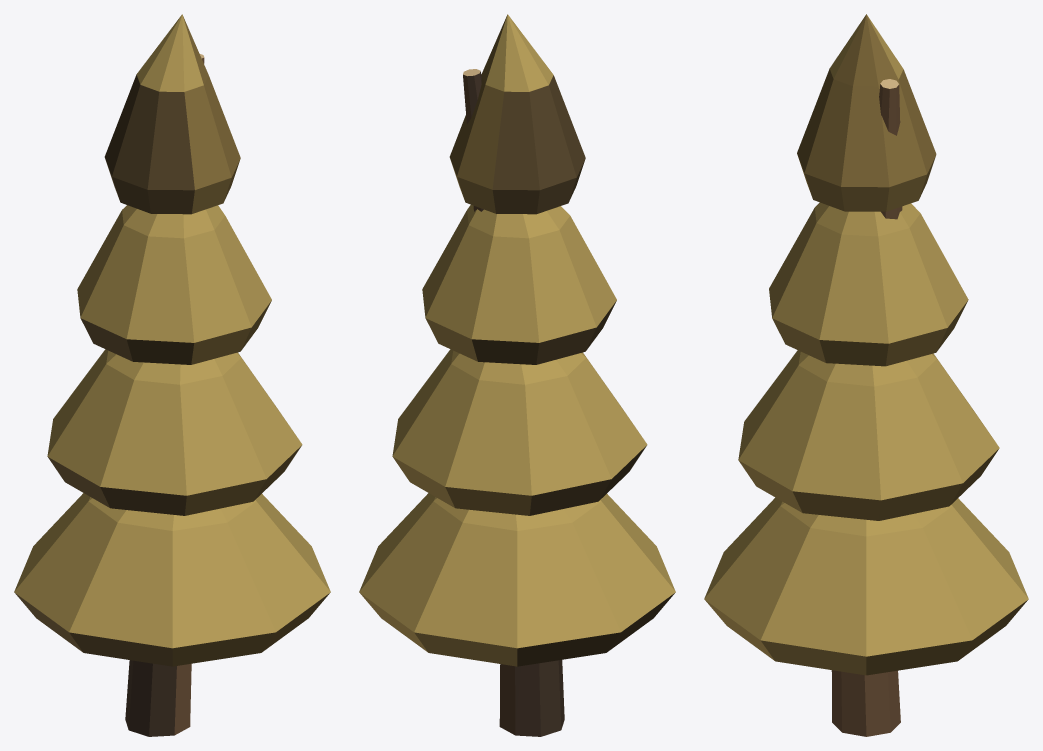
File: TW_TREE_TIERED_SLIM_B_LOD0.glb
3 views of the same model, side by side, from view 1: azimuth 30°, elevation 25°; view 2: azimuth 150°, elevation 25°; view 3: azimuth 270°, elevation 25° (orthographic). The views are drawn at different scales.
Visible parts, largest first — view 1: TW_TREE_TIERED_SLIM_B_LOD0; view 2: TW_TREE_TIERED_SLIM_B_LOD0; view 3: TW_TREE_TIERED_SLIM_B_LOD0.
Part boxes in pixels (box(x1,y1,x2,y2)): TW_TREE_TIERED_SLIM_B_LOD0: box(14, 14, 330, 736); TW_TREE_TIERED_SLIM_B_LOD0: box(359, 14, 675, 736); TW_TREE_TIERED_SLIM_B_LOD0: box(704, 14, 1028, 736).
Size of the model in its own units: 1.65 by 4.1 by 1.67.
1 material, 1 textured.
